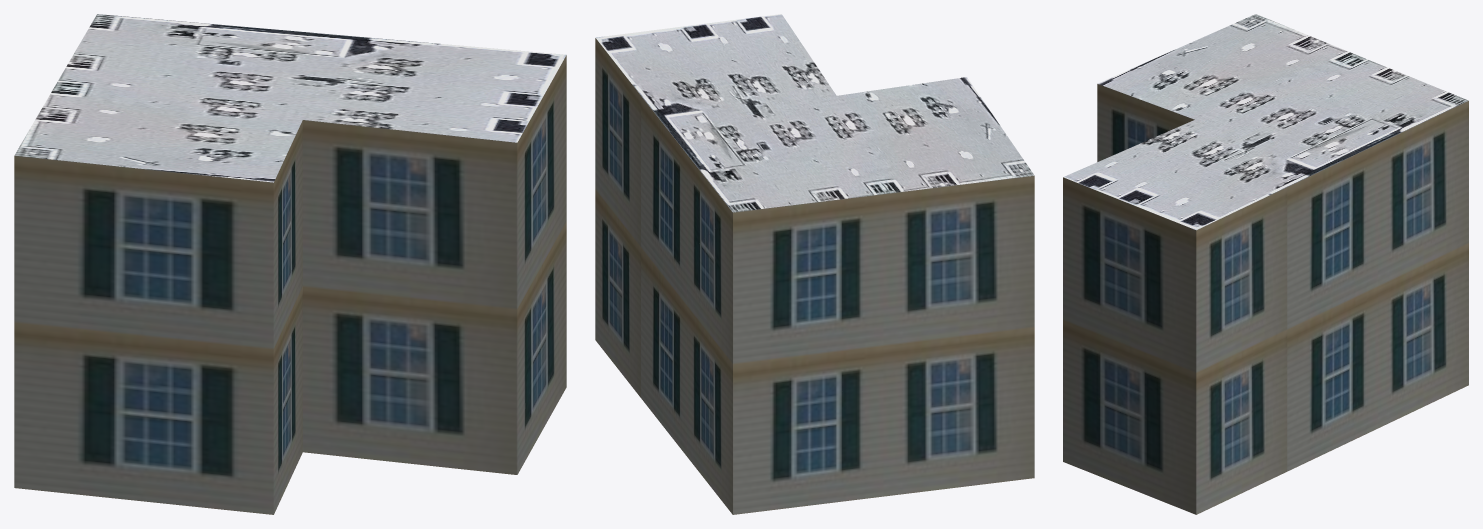
File: ResTex__1791.fbx
The picture shows the model from 3 angles, left to right: view 1: azimuth 30°, elevation 25°; view 2: azimuth 150°, elevation 25°; view 3: azimuth 270°, elevation 25°; orthographic projection. The views are drawn at different scales.
Parts seen in each view (by area): view 1: CityEngineMaterial_7_m, CityEngineMaterial_2_m; view 2: CityEngineMaterial_7_m, CityEngineMaterial_2_m; view 3: CityEngineMaterial_7_m, CityEngineMaterial_2_m.
Part boxes in pixels (bbox=[...]): CityEngineMaterial_7_m: bbox=[14, 55, 566, 514]; CityEngineMaterial_2_m: bbox=[14, 14, 566, 182]; CityEngineMaterial_7_m: bbox=[595, 38, 1034, 514]; CityEngineMaterial_2_m: bbox=[595, 14, 1034, 212]; CityEngineMaterial_7_m: bbox=[1063, 84, 1468, 514]; CityEngineMaterial_2_m: bbox=[1063, 14, 1468, 230].
Size of the model in its own units: 9.78 by 6 by 7.75.
Materials: 2 (2 with a texture image).
